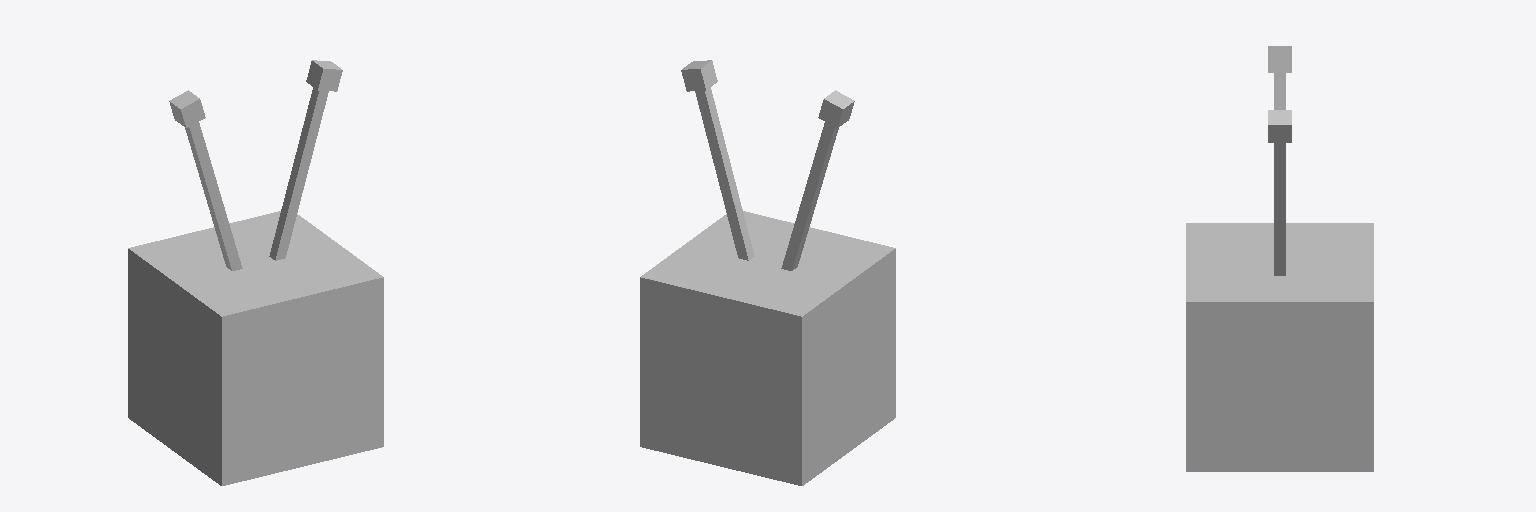
The model's file is jacobs_normal.obj.
3 views of the same model, side by side, from view 1: azimuth 30°, elevation 25°; view 2: azimuth 150°, elevation 25°; view 3: azimuth 270°, elevation 25° (orthographic).
Parts seen in each view (by area): view 1: Cube.001_Cube.005, Cube.005_Cube.013, Cube.006_Cube.014, Cube.008_Cube.016, Cube.007_Cube.015; view 2: Cube.001_Cube.005, Cube.005_Cube.013, Cube.006_Cube.014, Cube.008_Cube.016, Cube.007_Cube.015; view 3: Cube.001_Cube.005, Cube.005_Cube.013, Cube.007_Cube.015, Cube.008_Cube.016.
Boxes of the visible parts, x1,y1,x2,y2 form: Cube.001_Cube.005: [128, 211, 383, 485]; Cube.005_Cube.013: [269, 87, 328, 260]; Cube.006_Cube.014: [185, 122, 242, 270]; Cube.008_Cube.016: [169, 90, 205, 127]; Cube.007_Cube.015: [306, 60, 342, 91]; Cube.001_Cube.005: [640, 211, 895, 485]; Cube.005_Cube.013: [695, 87, 754, 260]; Cube.006_Cube.014: [781, 122, 838, 270]; Cube.008_Cube.016: [818, 90, 854, 127]; Cube.007_Cube.015: [681, 60, 717, 91]; Cube.001_Cube.005: [1186, 223, 1373, 471]; Cube.005_Cube.013: [1274, 143, 1285, 275]; Cube.007_Cube.015: [1268, 110, 1291, 142]; Cube.008_Cube.016: [1268, 46, 1291, 72].
Size of the model in its own units: 1 by 2.08 by 1.